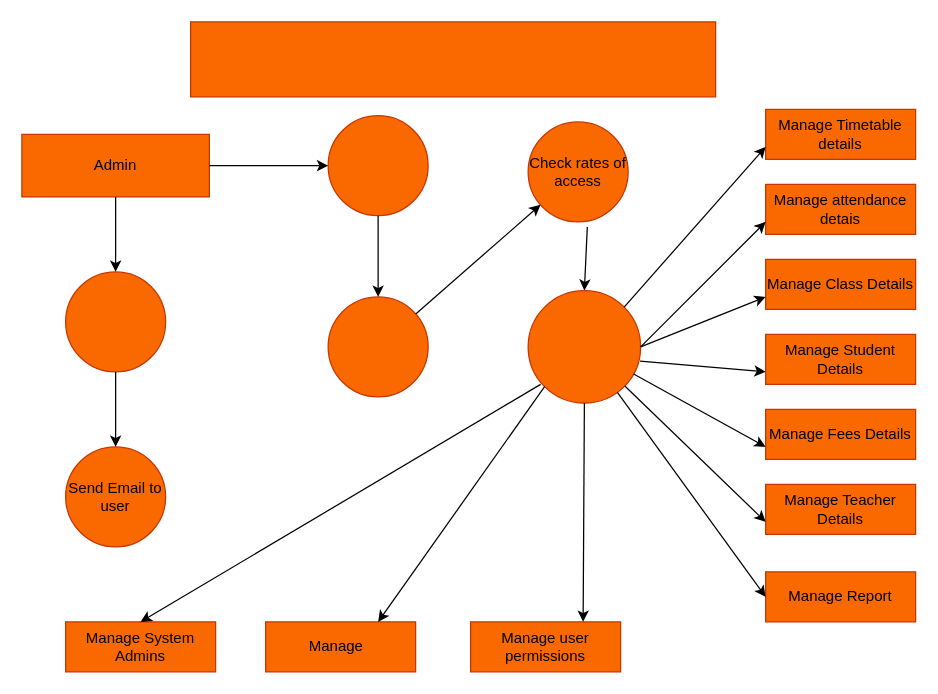
Some shapes in this 938 by 694 pixel diagram are drawn without their labels. Here are the shapes that lost their labels. From the top down, the centre of each, then its label:
At point 452,59: "Student Information System".
At point 377,165: "Login to System".
At point 115,321: "Forget Password".
At point 377,346: "Check Credentials".
At point 584,346: "Manage models".
